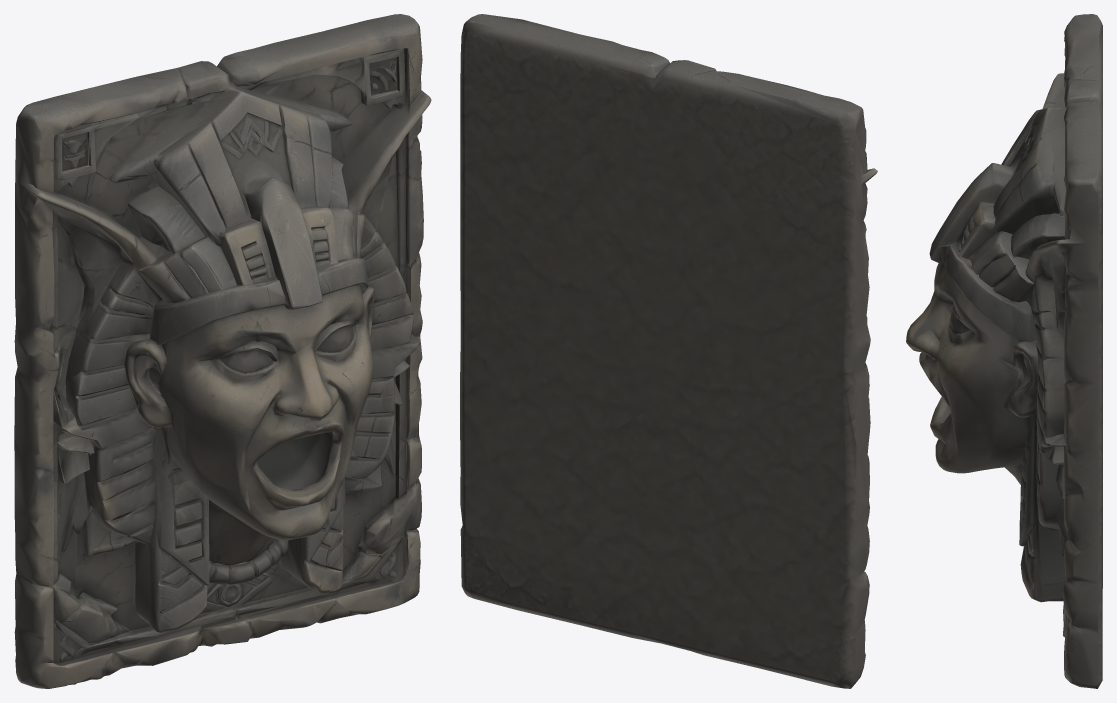
File: obj_wall_crystal_holder.glb
The picture shows the model from 3 angles, left to right: view 1: azimuth 30°, elevation 25°; view 2: azimuth 150°, elevation 25°; view 3: azimuth 270°, elevation 25°; orthographic projection. The views are drawn at different scales.
Visible parts, largest first — view 1: Mesh_0; view 2: Mesh_0; view 3: Mesh_0.
Boxes of the visible parts, <box> form: Mesh_0: <box>14,14,431,688</box>; Mesh_0: <box>460,14,877,688</box>; Mesh_0: <box>906,14,1102,688</box>.
Size of the model in its own units: 1.37 by 1.9 by 0.662.
Materials: 1 (1 with a texture image).
